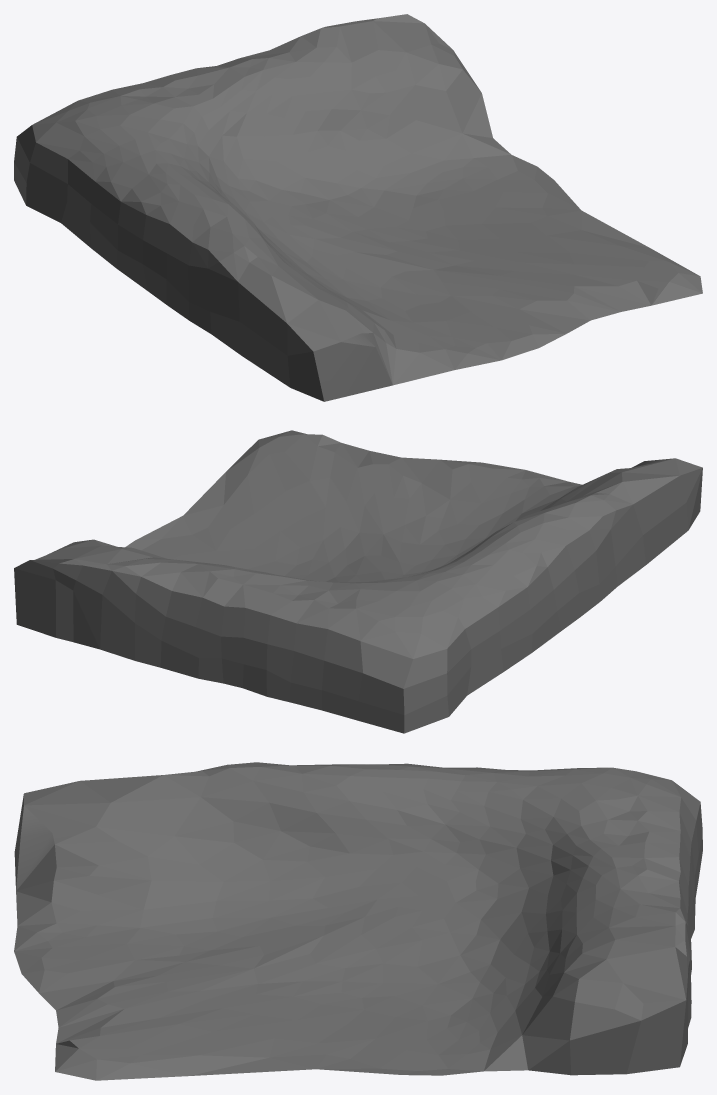
File: SM_Gen_Env_Ground_River_Dirt_Large_03.glb
3 views of the same model, one above another, from view 1: azimuth 30°, elevation 25°; view 2: azimuth 150°, elevation 25°; view 3: azimuth 270°, elevation 25° (orthographic). The views are drawn at different scales.
Visible parts, largest first — view 1: SM_Gen_Env_Ground_River_Dirt_Large_03; view 2: SM_Gen_Env_Ground_River_Dirt_Large_03; view 3: SM_Gen_Env_Ground_River_Dirt_Large_03.
Boxes of the visible parts, <box> form: SM_Gen_Env_Ground_River_Dirt_Large_03: <box>14,14,702,401</box>; SM_Gen_Env_Ground_River_Dirt_Large_03: <box>14,430,702,733</box>; SM_Gen_Env_Ground_River_Dirt_Large_03: <box>14,762,702,1080</box>.
Size of the model in its own units: 25.86 by 5.37 by 31.55.
1 material, 1 textured.
